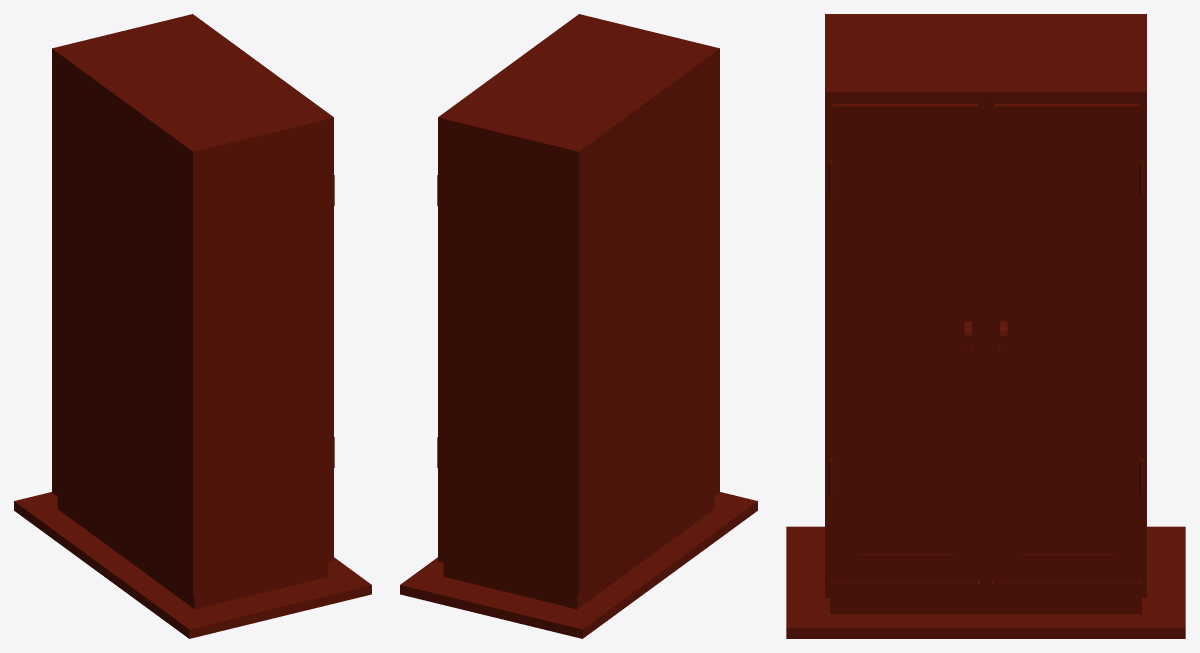
Rendered from automation cabinet1.FBX.
3 views of the same model, side by side, from view 1: azimuth 30°, elevation 25°; view 2: azimuth 150°, elevation 25°; view 3: azimuth 270°, elevation 25° (orthographic). The views are drawn at different scales.
Visible parts, largest first — view 1: automation cabinet1; view 2: automation cabinet1; view 3: automation cabinet1.
Boxes of the visible parts, <box> form: automation cabinet1: <box>14,14,371,638</box>; automation cabinet1: <box>400,14,757,638</box>; automation cabinet1: <box>786,14,1185,638</box>.
Size of the model in its own units: 71.17 by 175 by 118.
